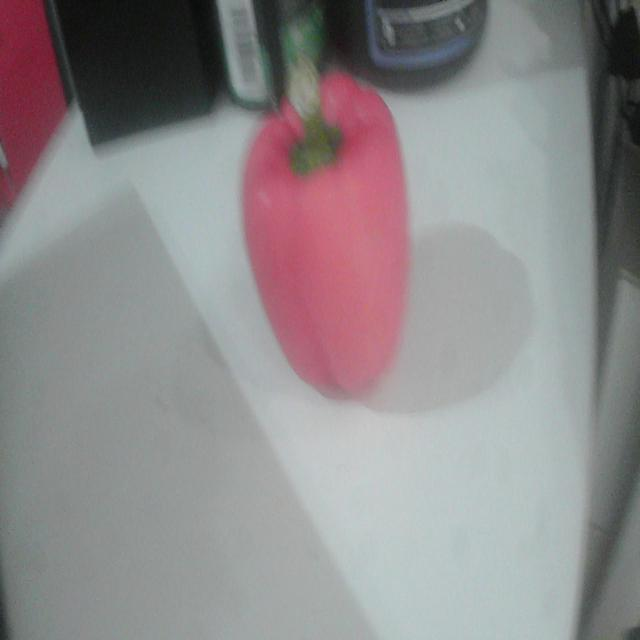Bell Pepper: (244, 58, 409, 396)
